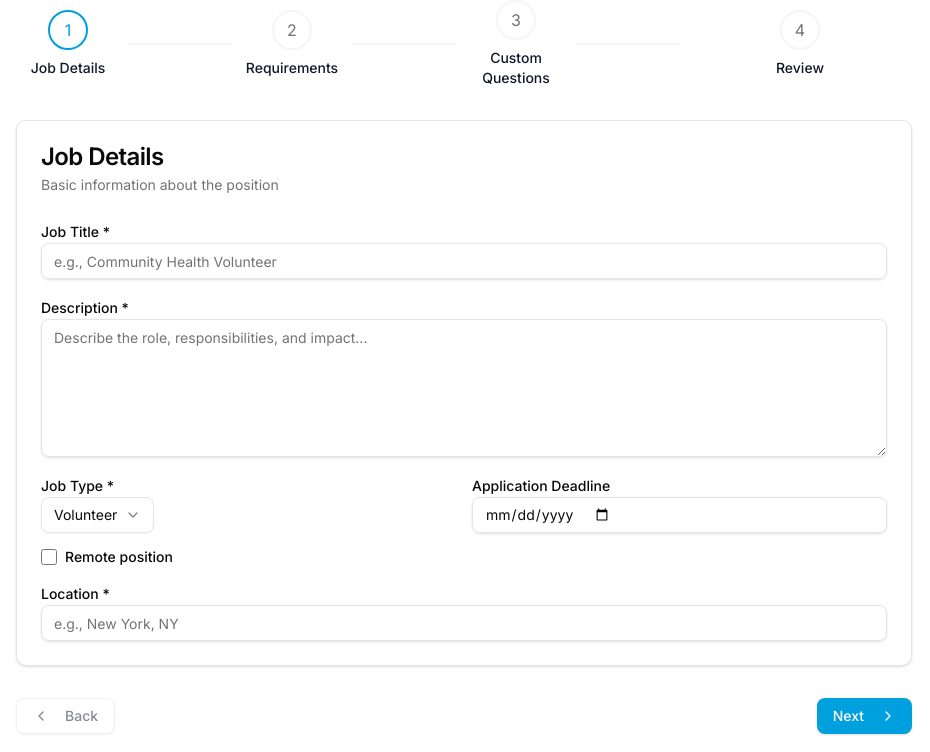
Scenario: JobForm › Skills Management › removes skills when X is clicked
The image size is (930, 752).
Navigate to requirements and add a skill
Type "Test" into the field labelled "Job Title *".
click(464, 261); type("Test")  # box [41,243,887,279]
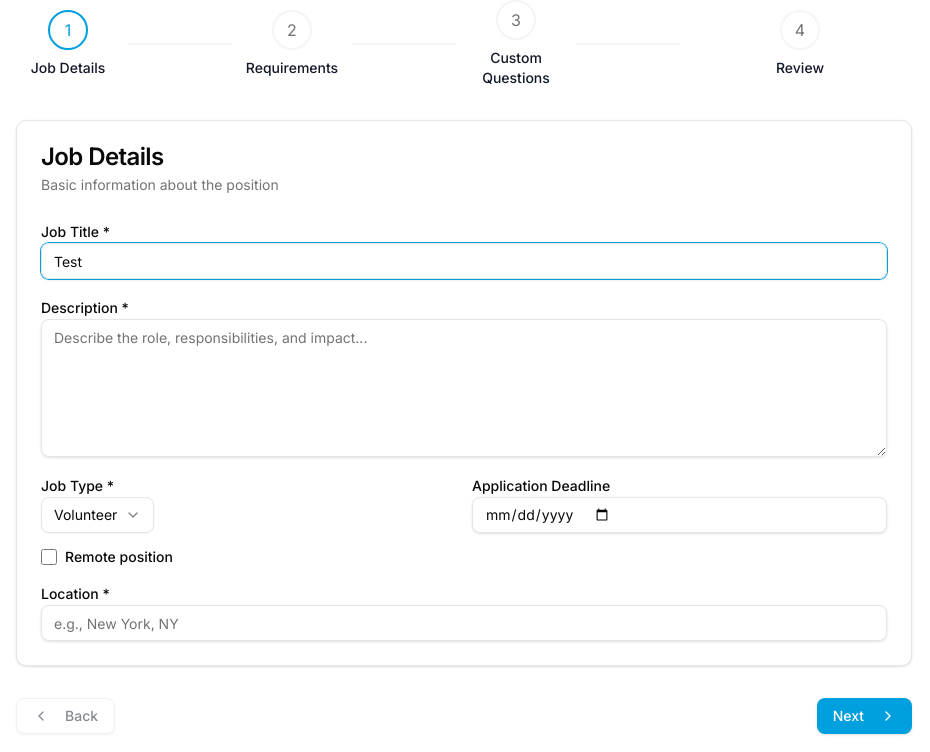
Type "Test" into the text box labelled "Description *".
click(464, 388); type("Test")  # box [41,319,887,457]
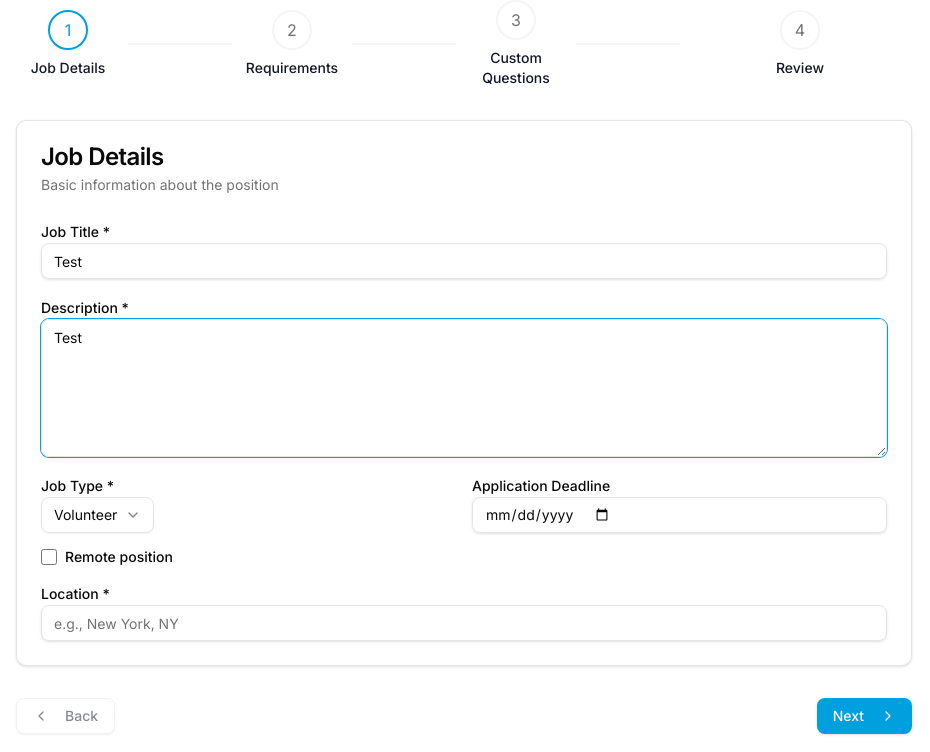
Click the checkbox labelled "Remote position".
click(49, 557)  # box [41,549,57,565]
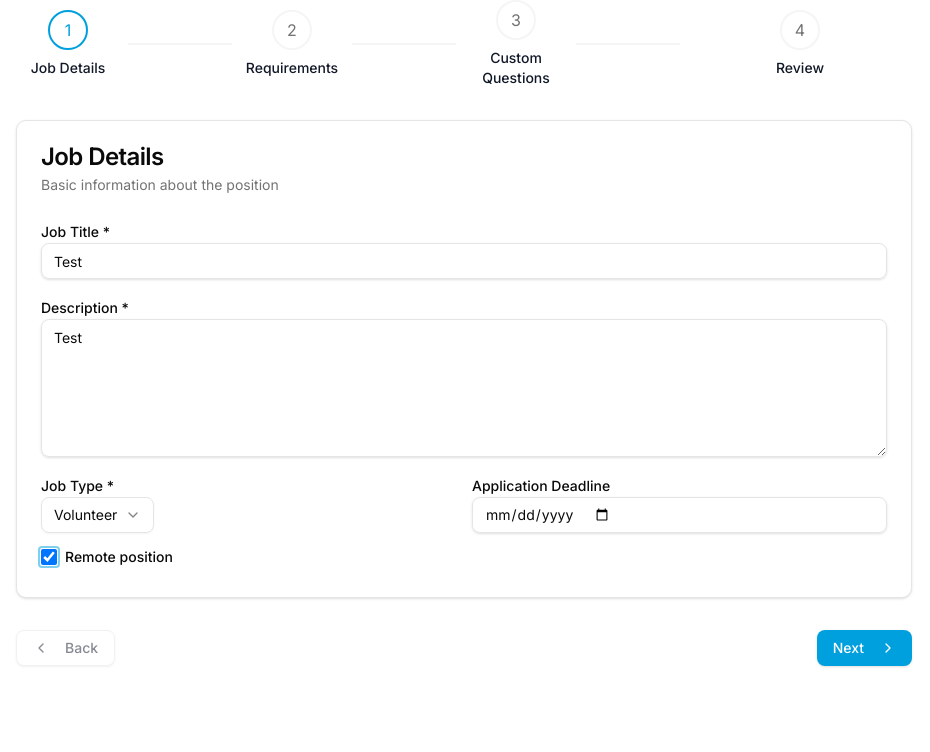
Click the button "Next".
click(864, 648)  # box [817,630,912,666]
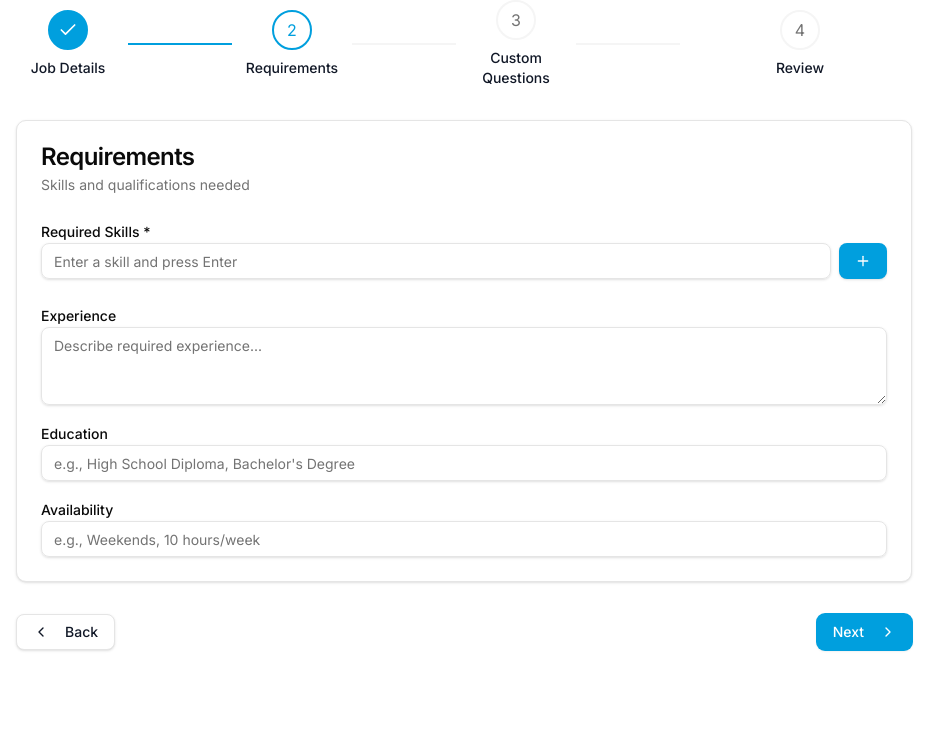
Type "React" into the field with placeholder "Enter a skill and press Enter".
click(436, 261); type("React")  # box [41,243,831,279]
Then press Enter
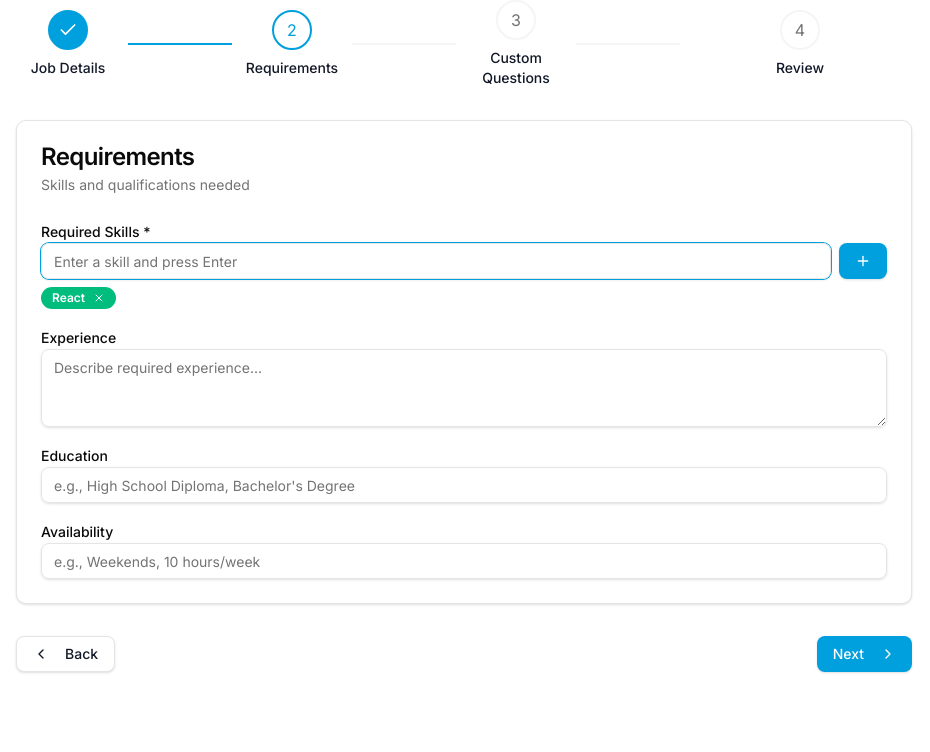
Click the button without text next to "React".
click(99, 298)  # box [93,292,105,304]
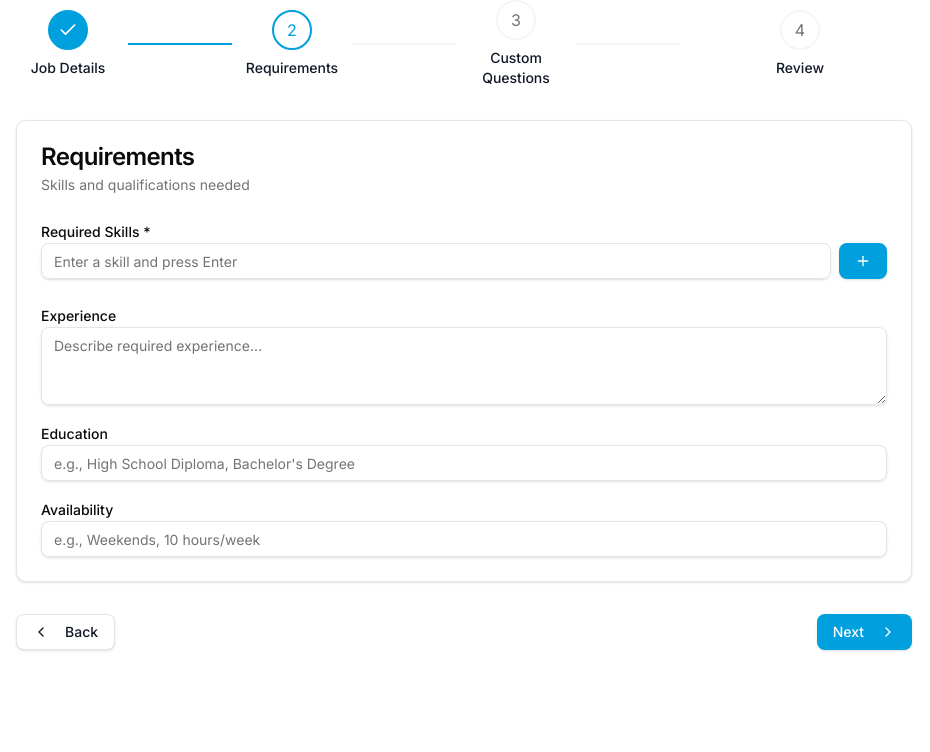
Now the text "React" is gone
